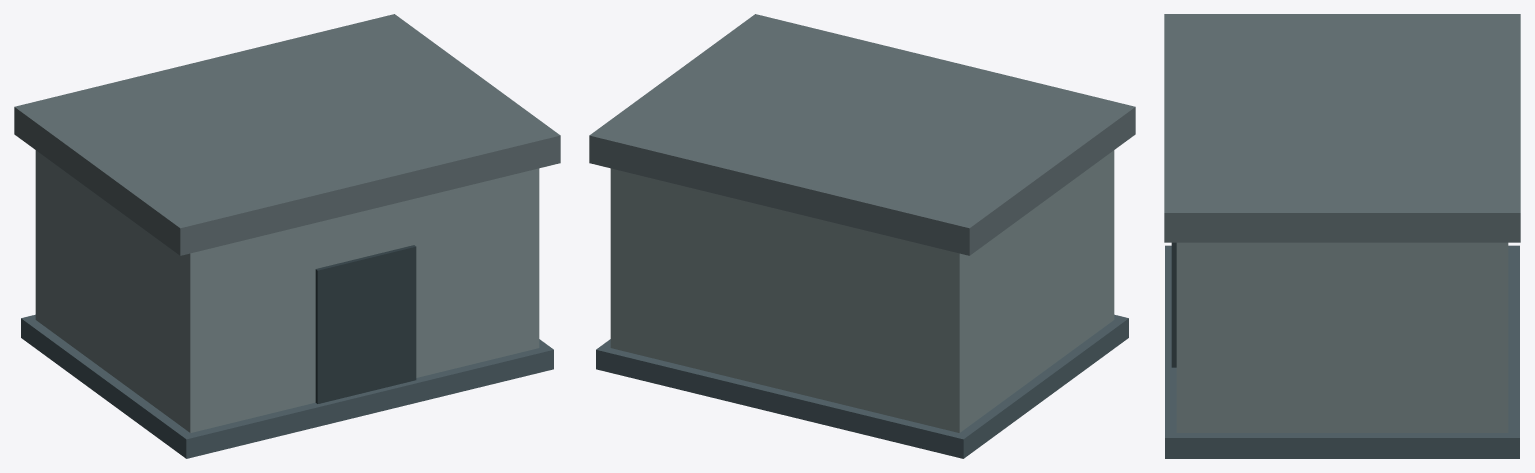
Rendered from spillway-box.glb.
The picture shows the model from 3 angles, left to right: view 1: azimuth 30°, elevation 25°; view 2: azimuth 150°, elevation 25°; view 3: azimuth 270°, elevation 25°; orthographic projection. The views are drawn at different scales.
Visible parts, largest first — view 1: spillway-box; view 2: spillway-box; view 3: spillway-box.
Boxes of the visible parts, box(x1,y1,x2,y2) form: spillway-box: box(14, 14, 560, 458); spillway-box: box(589, 14, 1135, 458); spillway-box: box(1164, 14, 1520, 458).
Size of the model in its own units: 4.47 by 2.61 by 3.38.
